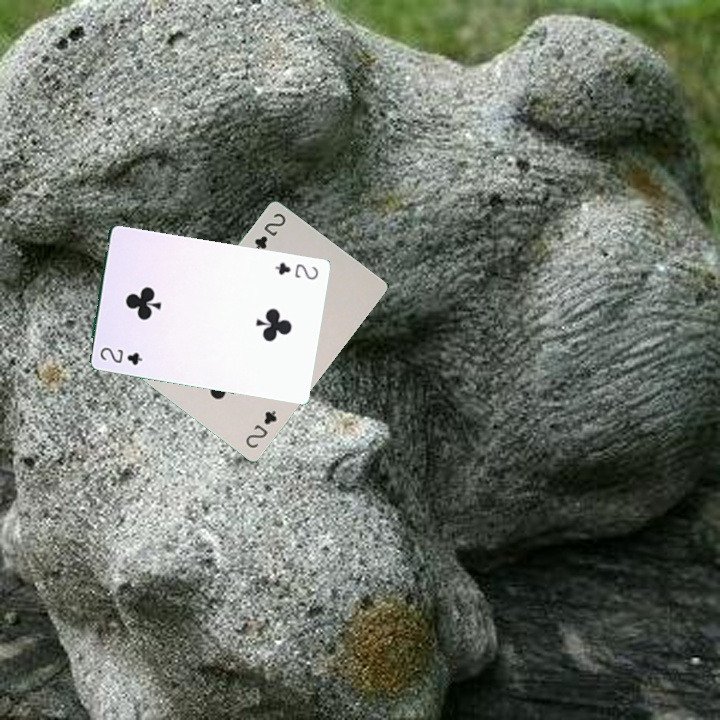2c: (241, 406, 280, 451), (251, 209, 288, 253), (271, 258, 321, 282), (96, 343, 145, 367)
